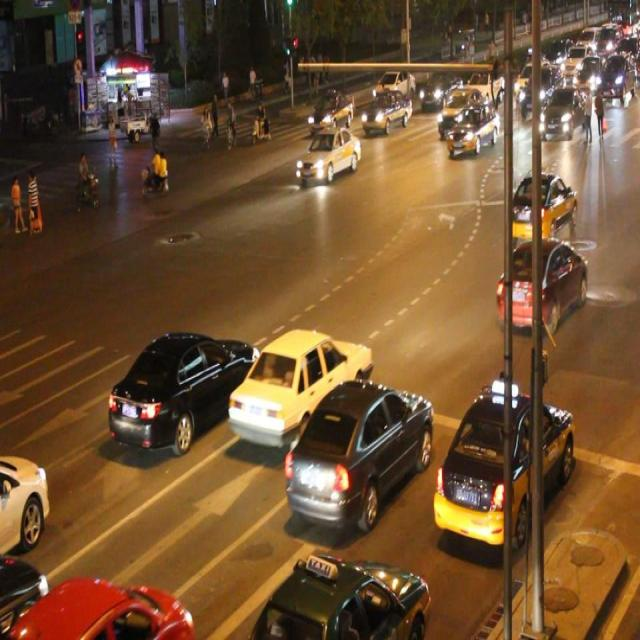car: (284, 377, 433, 523), (432, 392, 572, 543), (108, 328, 258, 453), (230, 327, 372, 445), (248, 551, 430, 640), (1, 572, 196, 640), (494, 238, 588, 330), (1, 452, 50, 555), (505, 170, 576, 240), (1, 551, 48, 640), (295, 125, 360, 183), (444, 102, 498, 154), (360, 88, 412, 135), (436, 86, 484, 134), (307, 90, 353, 133)
